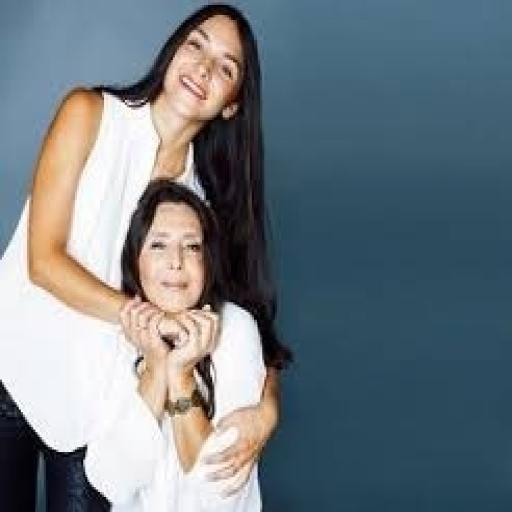hugging: (0, 0, 289, 509)
